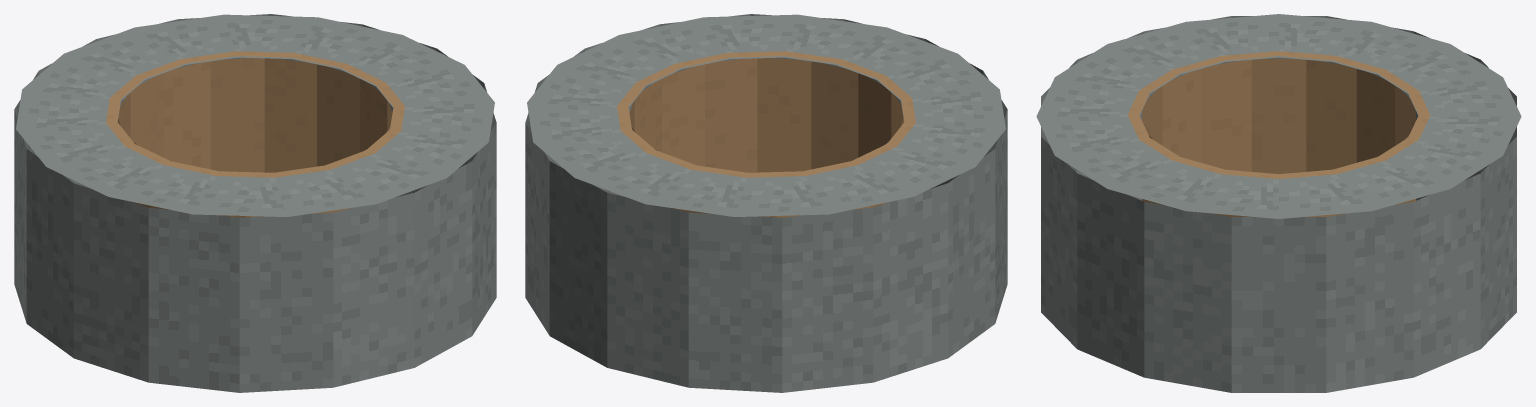
The model's file is duct_tape.glb.
3 views of the same model, side by side, from view 1: azimuth 30°, elevation 25°; view 2: azimuth 150°, elevation 25°; view 3: azimuth 270°, elevation 25° (orthographic).
Visible parts, largest first — view 1: block_outer roll, block_paper core, block_wound layers 4, block_wound layers 5, block_wound layers 6, block_wound layers 3, block_wound layers 7, block_wound layers 2, block_wound layers 8, block_wound layers 13, block_wound layers 11, block_wound layers 14 (+6 smaller); view 2: block_outer roll, block_paper core, block_wound layers 11, block_wound layers 10, block_wound layers 9, block_wound layers 12, block_wound layers 8, block_wound layers 13, block_wound layers 7, block_wound layers 2, block_wound layers 1, block_wound layers 4 (+6 smaller); view 3: block_outer roll, block_paper core, block_wound layers 1, block_wound layers 14, block_wound layers 0, block_wound layers 15, block_wound layers 2, block_wound layers 13, block_wound layers 3, block_wound layers 12, block_wound layers 4, block_wound layers 6 (+6 smaller).
Boxes of the visible parts, x1=… form: block_outer roll: x1=14, y1=14, x2=496, y2=392; block_paper core: x1=117, y1=58, x2=392, y2=217; block_wound layers 4: x1=275, y1=170, x2=375, y2=216; block_wound layers 5: x1=193, y1=176, x2=286, y2=216; block_wound layers 6: x1=109, y1=165, x2=216, y2=214; block_wound layers 3: x1=330, y1=154, x2=446, y2=204; block_wound layers 7: x1=47, y1=147, x2=164, y2=196; block_wound layers 2: x1=373, y1=132, x2=488, y2=177; block_wound layers 8: x1=16, y1=124, x2=126, y2=166; block_wound layers 13: x1=224, y1=14, x2=317, y2=58; block_wound layers 11: x1=64, y1=27, x2=185, y2=79; block_wound layers 14: x1=292, y1=17, x2=401, y2=68; block_outer roll: x1=525, y1=14, x2=1007, y2=392; block_paper core: x1=629, y1=58, x2=904, y2=217; block_wound layers 11: x1=646, y1=170, x2=746, y2=216; block_wound layers 10: x1=735, y1=176, x2=828, y2=216; block_wound layers 9: x1=805, y1=165, x2=912, y2=214; block_wound layers 12: x1=575, y1=154, x2=691, y2=204; block_wound layers 8: x1=857, y1=147, x2=974, y2=196; block_wound layers 13: x1=533, y1=132, x2=648, y2=177; block_wound layers 7: x1=895, y1=124, x2=1005, y2=166; block_wound layers 2: x1=704, y1=14, x2=797, y2=58; block_wound layers 1: x1=620, y1=17, x2=729, y2=68; block_wound layers 4: x1=836, y1=27, x2=957, y2=79; block_outer roll: x1=1041, y1=16, x2=1516, y2=392; block_paper core: x1=1142, y1=58, x2=1415, y2=216; block_wound layers 1: x1=1108, y1=161, x2=1221, y2=210; block_wound layers 14: x1=1336, y1=161, x2=1449, y2=210; block_wound layers 0: x1=1186, y1=174, x2=1278, y2=218; block_wound layers 15: x1=1279, y1=174, x2=1371, y2=218; block_wound layers 2: x1=1055, y1=140, x2=1173, y2=188; block_wound layers 13: x1=1384, y1=140, x2=1502, y2=188; block_wound layers 3: x1=1037, y1=116, x2=1140, y2=155; block_wound layers 12: x1=1417, y1=116, x2=1520, y2=155; block_wound layers 4: x1=1036, y1=77, x2=1149, y2=116; block_wound layers 6: x1=1108, y1=22, x2=1224, y2=74.
Bounding box in the file's own units: 0.125 × 0.0504 × 0.125.
Materials: 2 (2 with a texture image).
